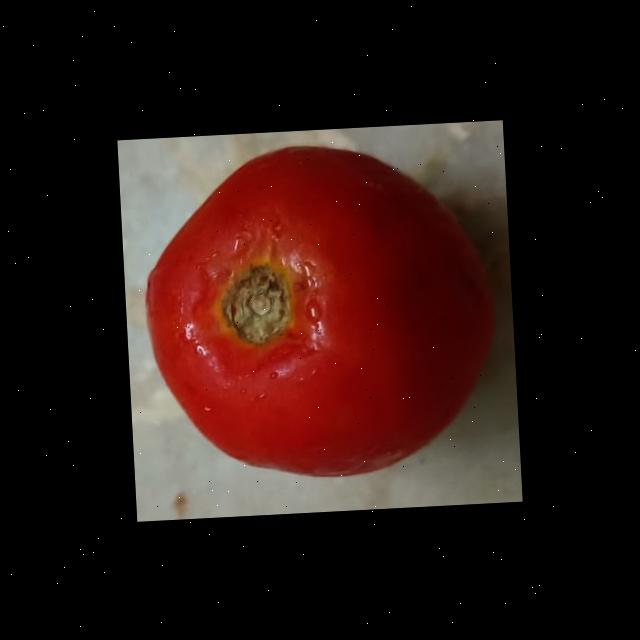tomato: (128, 137, 502, 495)
